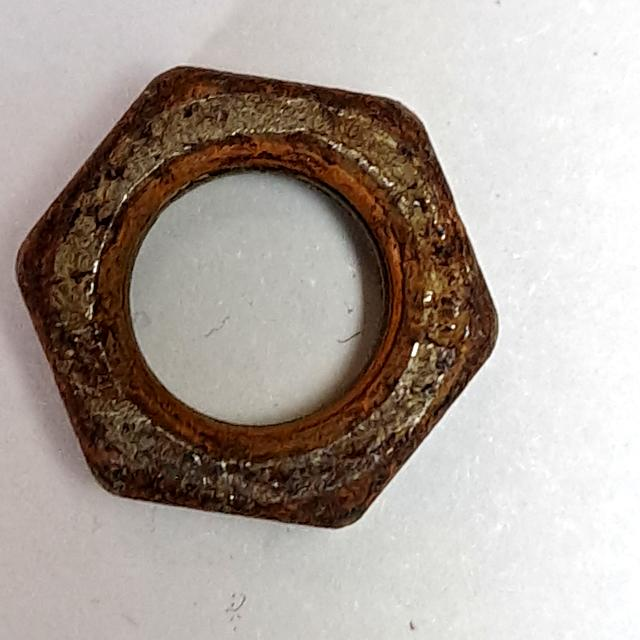Rust: (4, 51, 534, 550)
